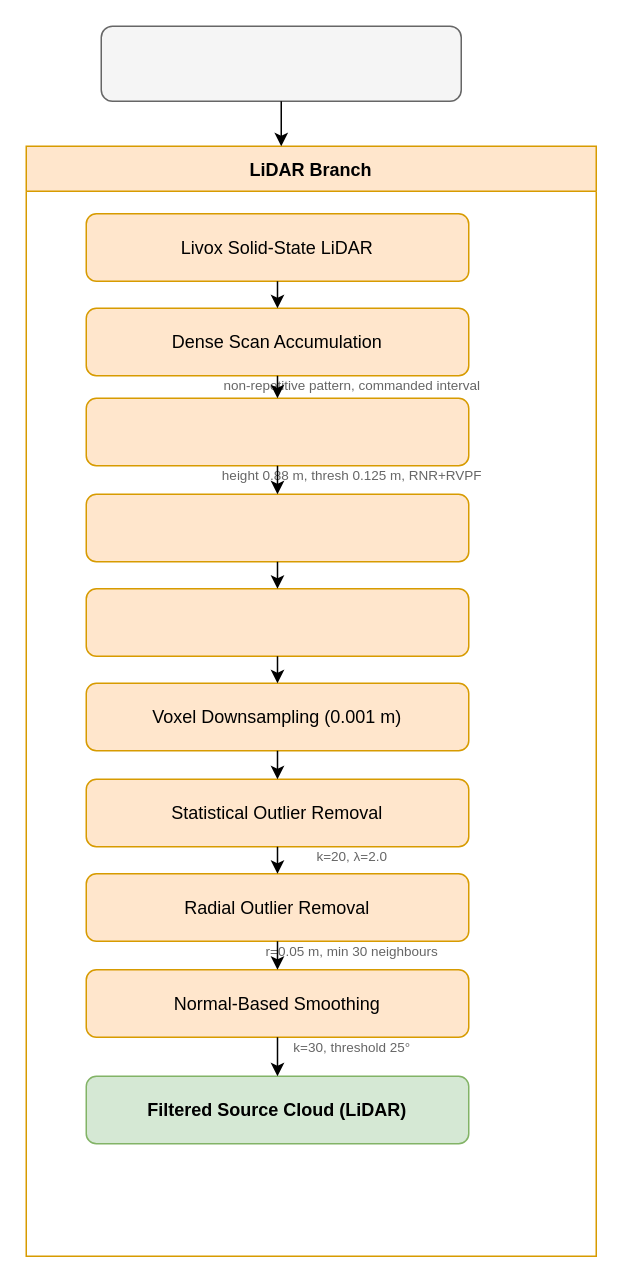
This 623x1283 diagram has some shape labels left out. The shapes that lost their labels are listed below. From the top down, each one's centre as x and y in pixels, then its label:
At (x=280, y=63): "Initial Pose (from SLAM)".
At (x=277, y=431): "Patchwork++ Ground Removal".
At (x=277, y=527): "Range Filtering (max 1.3 m)".
At (x=277, y=621): "Angular Filtering (−180° to 0°)".
